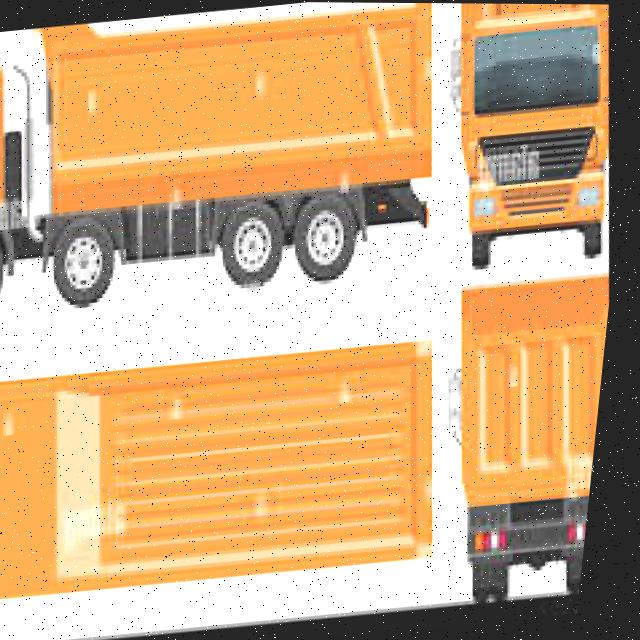truck: (0, 327, 470, 605), (440, 262, 619, 601), (440, 3, 633, 263)
